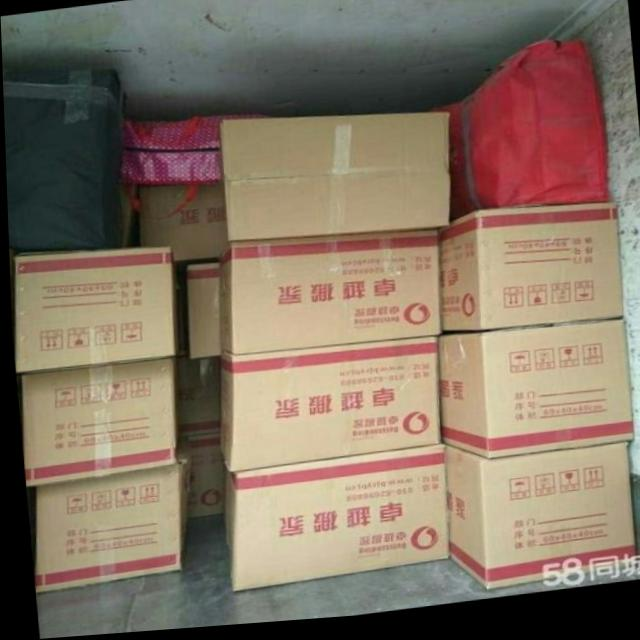box: (220, 448, 444, 594), (216, 342, 434, 475), (437, 450, 633, 596), (222, 122, 447, 245), (432, 328, 632, 465), (218, 237, 437, 359), (438, 212, 620, 339), (32, 457, 184, 590), (16, 361, 172, 484), (14, 251, 173, 371)
